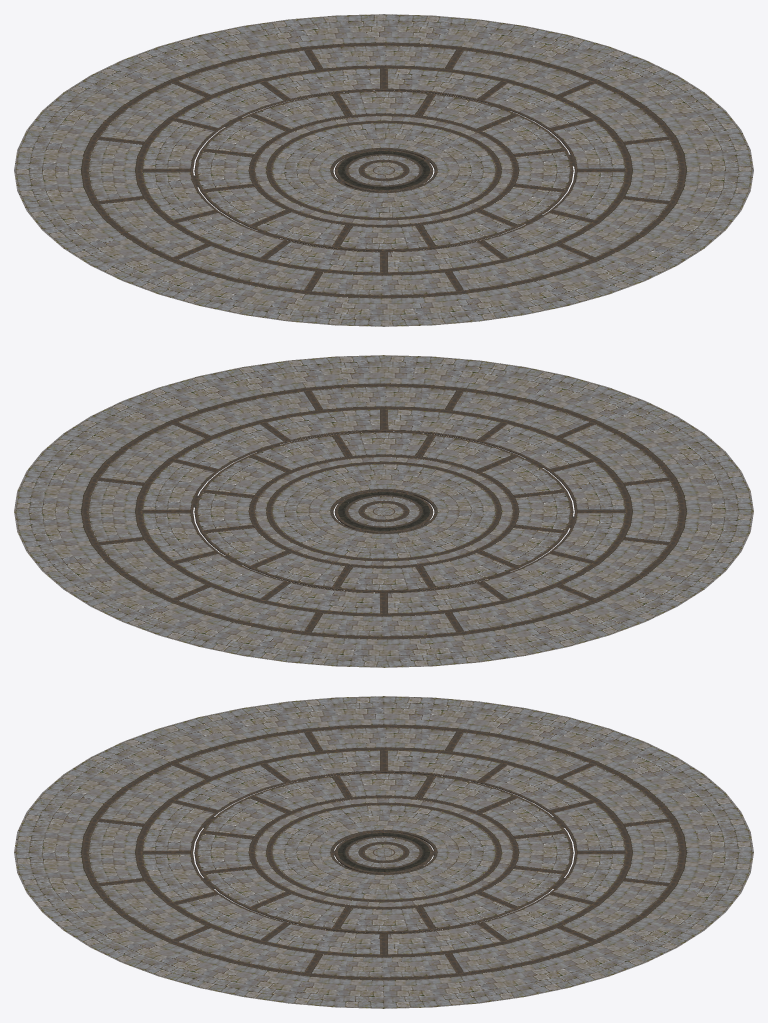
The picture shows the model from 3 angles, top to bottom: view 1: azimuth 30°, elevation 25°; view 2: azimuth 150°, elevation 25°; view 3: azimuth 270°, elevation 25°; orthographic projection.
Parts seen in each view (by area): view 1: SM_Titan_Floor_A_LOD0; view 2: SM_Titan_Floor_A_LOD0; view 3: SM_Titan_Floor_A_LOD0.
Boxes of the visible parts, bbox=[...] form: SM_Titan_Floor_A_LOD0: bbox=[14, 14, 753, 326]; SM_Titan_Floor_A_LOD0: bbox=[14, 355, 753, 667]; SM_Titan_Floor_A_LOD0: bbox=[14, 696, 753, 1008].
Bounding box in the file's own units: 73.32 × 0.1172 × 73.32.
Materials: 2 (2 with a texture image).
